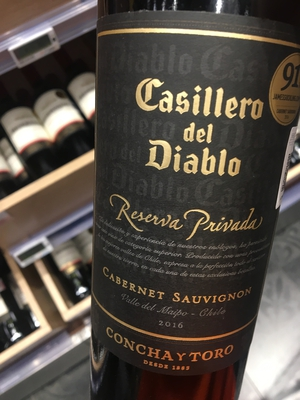casillero del diablo reserva privada cabernet sauvignon: (86, 5, 299, 400)
